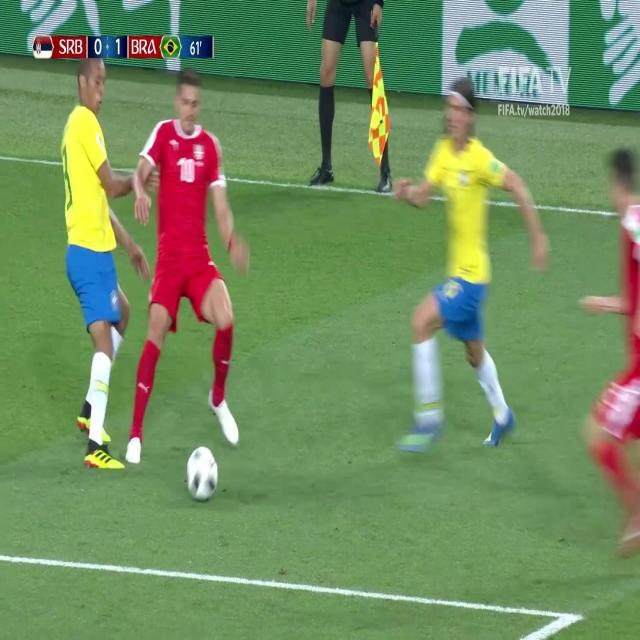ball: (182, 439, 223, 510)
player: (382, 68, 539, 462), (113, 52, 256, 474), (42, 44, 154, 472), (574, 104, 640, 548), (301, 0, 402, 183)
